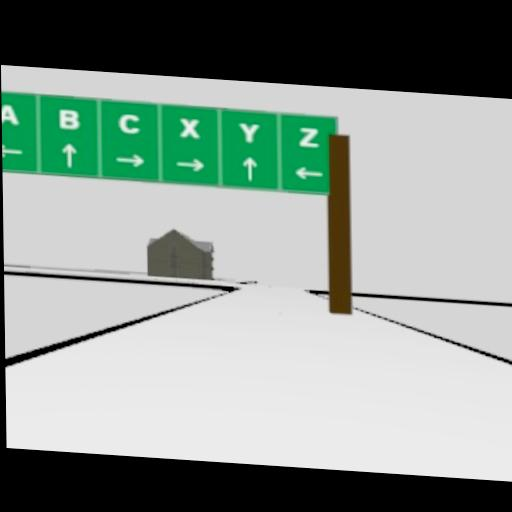A: (2, 102, 18, 123)
B: (58, 108, 79, 129)
C: (117, 112, 138, 133)
Left: (293, 165, 324, 180), (3, 144, 24, 158)
Right: (174, 157, 204, 172), (114, 151, 144, 166)
Straight: (242, 154, 257, 180), (62, 140, 77, 166)
X: (178, 116, 199, 137)
Y: (238, 119, 259, 142)
Z: (297, 125, 318, 146)
